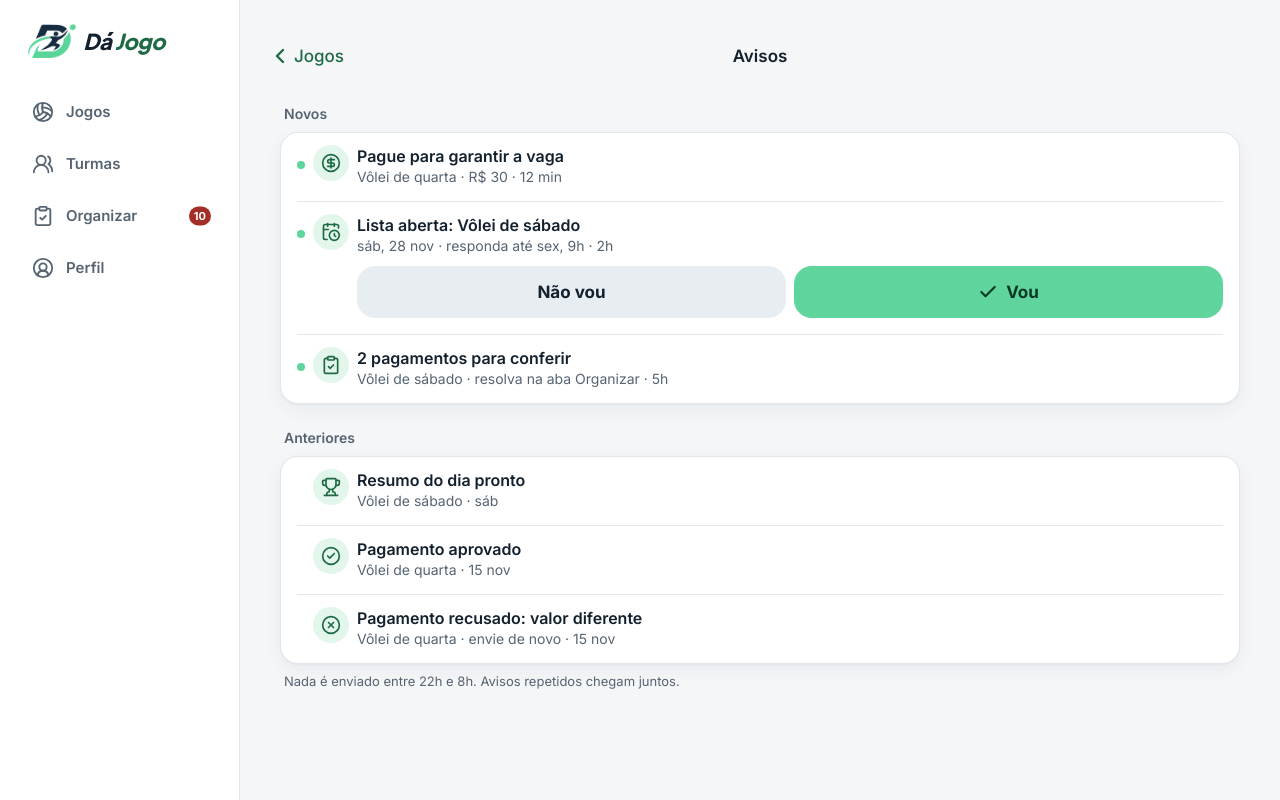
Test case: 3.5 Avisos › responde "Vou" no próprio aviso e o aviso de pagamento abre a folha de Pix, ficando em Avisos
Expected: the heading "Novos" is shown, [284, 104, 327, 124]
Step 1. Click the button "Vou" → (1008, 292), box [794, 266, 1223, 318]
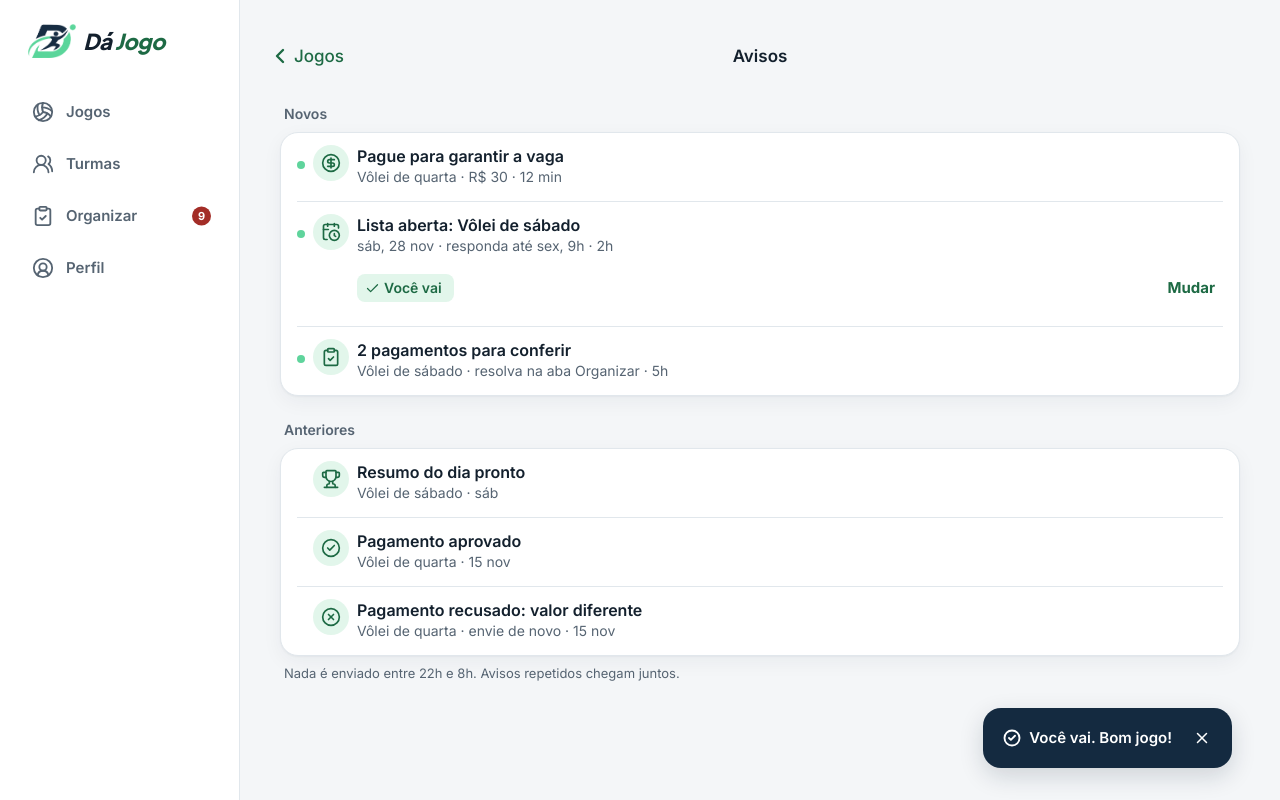
Expected: the text "Você vai" is shown, [357, 274, 454, 302]
Step 2. Click the button "Pague para garantir a vaga Vôlei de quarta · R$ 30 · 12 min" → (460, 156), box [357, 145, 1223, 189]
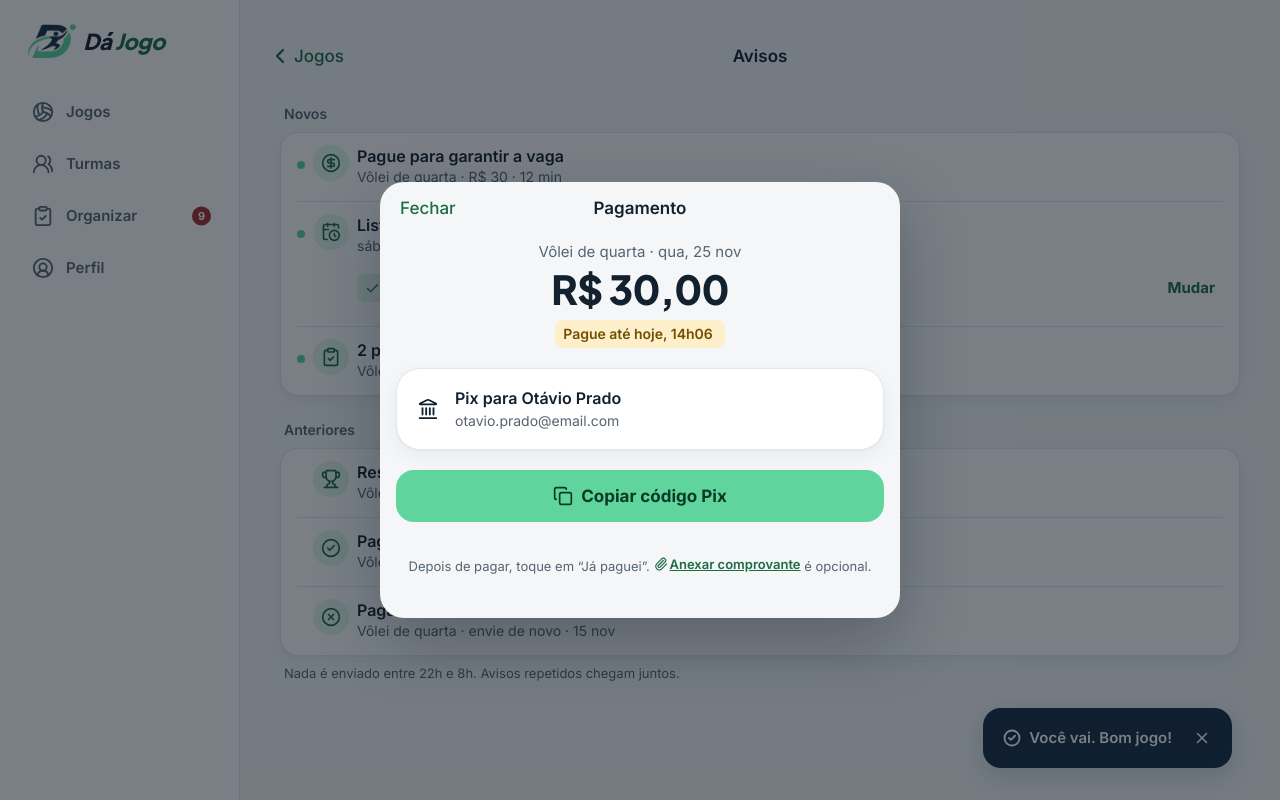
Expected: the dialog "Pagamento" is shown, [380, 182, 900, 618]
